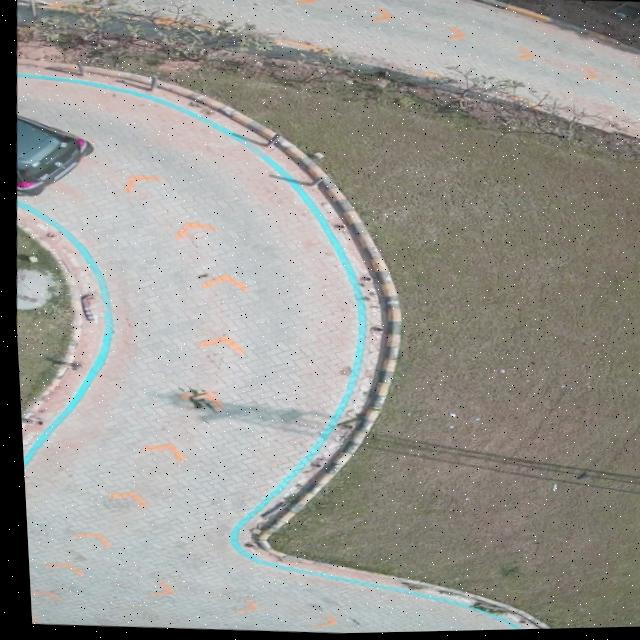car: (14, 116, 90, 197)
